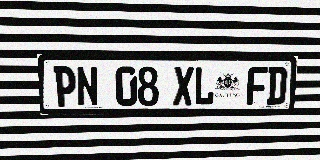0: (115, 67, 137, 106)
8: (137, 67, 158, 106)
D: (266, 67, 288, 105)
F: (246, 67, 268, 105)
L: (194, 67, 215, 105)
N: (76, 66, 99, 107)
P: (53, 66, 77, 107)
X: (173, 67, 194, 106)
